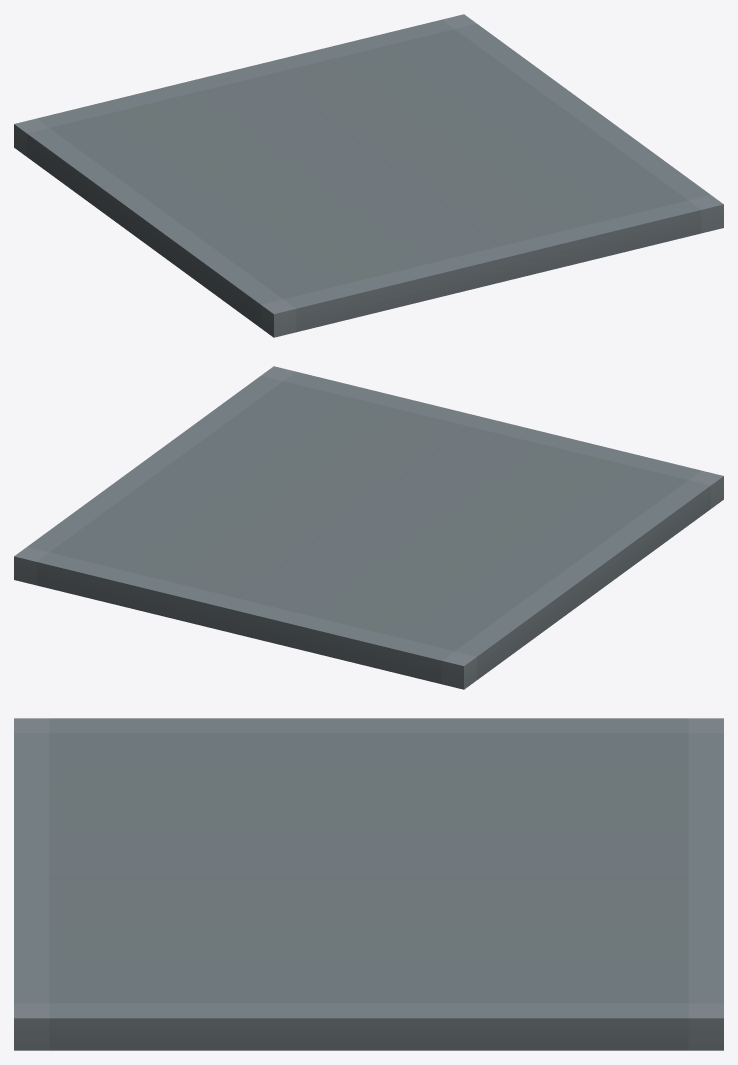
3 renders of one model, top to bottom at view 1: azimuth 30°, elevation 25°; view 2: azimuth 150°, elevation 25°; view 3: azimuth 270°, elevation 25°, orthographic. The views are drawn at different scales.
Visible parts, largest first — view 1: base; view 2: base; view 3: base.
Part boxes in pixels (x1=…): base: x1=14, y1=14, x2=723, y2=337; base: x1=14, y1=366, x2=723, y2=689; base: x1=14, y1=718, x2=723, y2=1050.
Bounding box in the file's own units: 2 × 0.1 × 2.
Materials: 1 (1 with a texture image).
